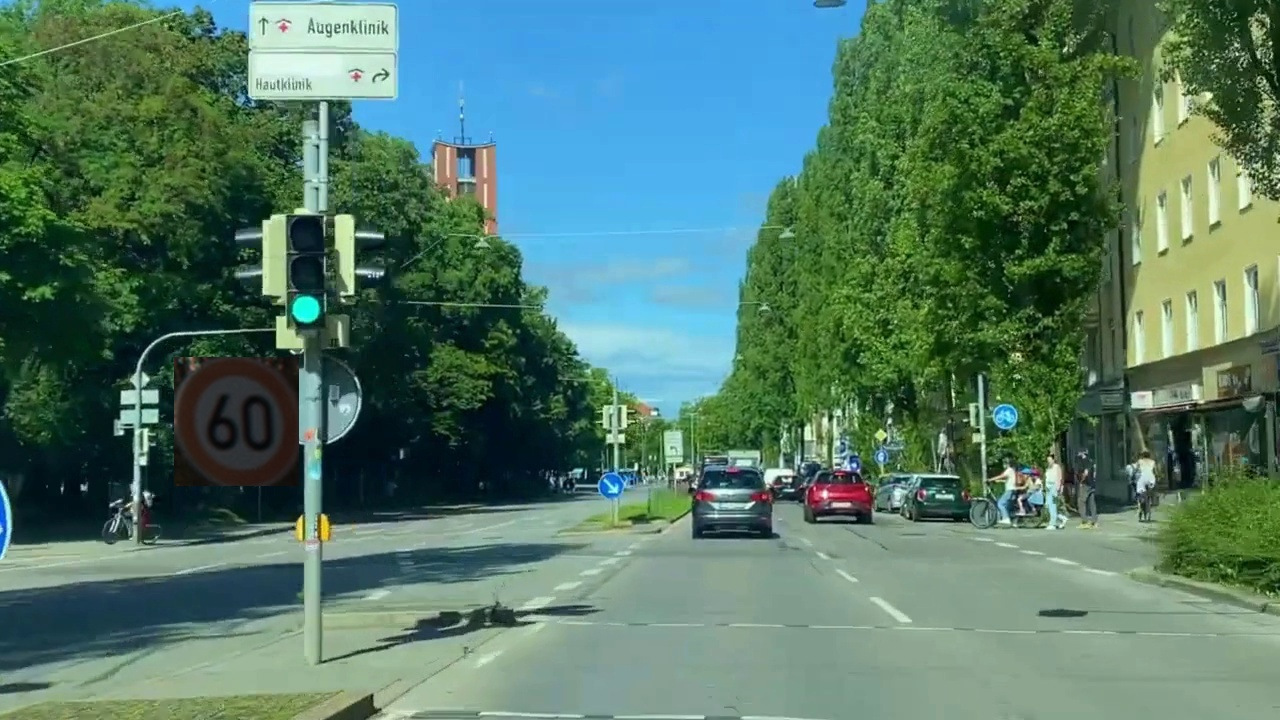Speed 60: (174, 357, 299, 486)
